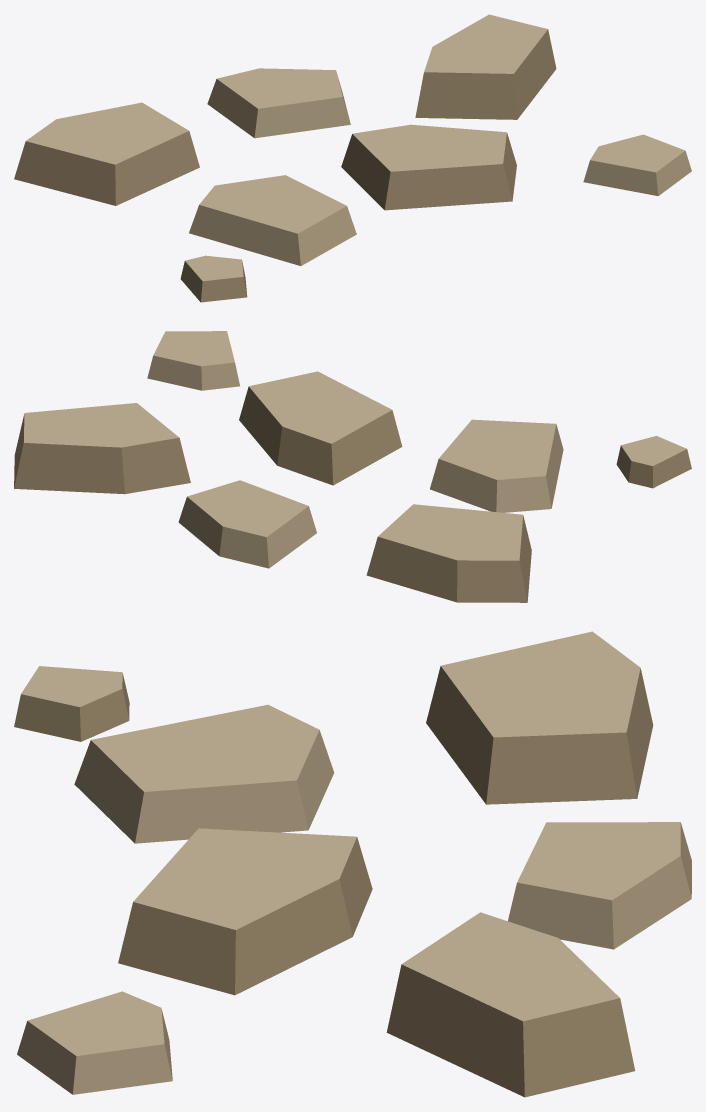
File: alc_ruin_rubble.glb
The picture shows the model from 3 angles, top to bottom: view 1: azimuth 30°, elevation 25°; view 2: azimuth 150°, elevation 25°; view 3: azimuth 270°, elevation 25°; orthographic projection. The views are drawn at different scales.
Visible parts, largest first — view 1: alc_ruin_rubble; view 2: alc_ruin_rubble; view 3: alc_ruin_rubble.
Part boxes in pixels (bbox=[...]): alc_ruin_rubble: bbox=[14, 14, 691, 302]; alc_ruin_rubble: bbox=[14, 331, 691, 602]; alc_ruin_rubble: bbox=[14, 631, 691, 1097].
Size of the model in its own units: 1.54 by 0.12 by 1.07.
